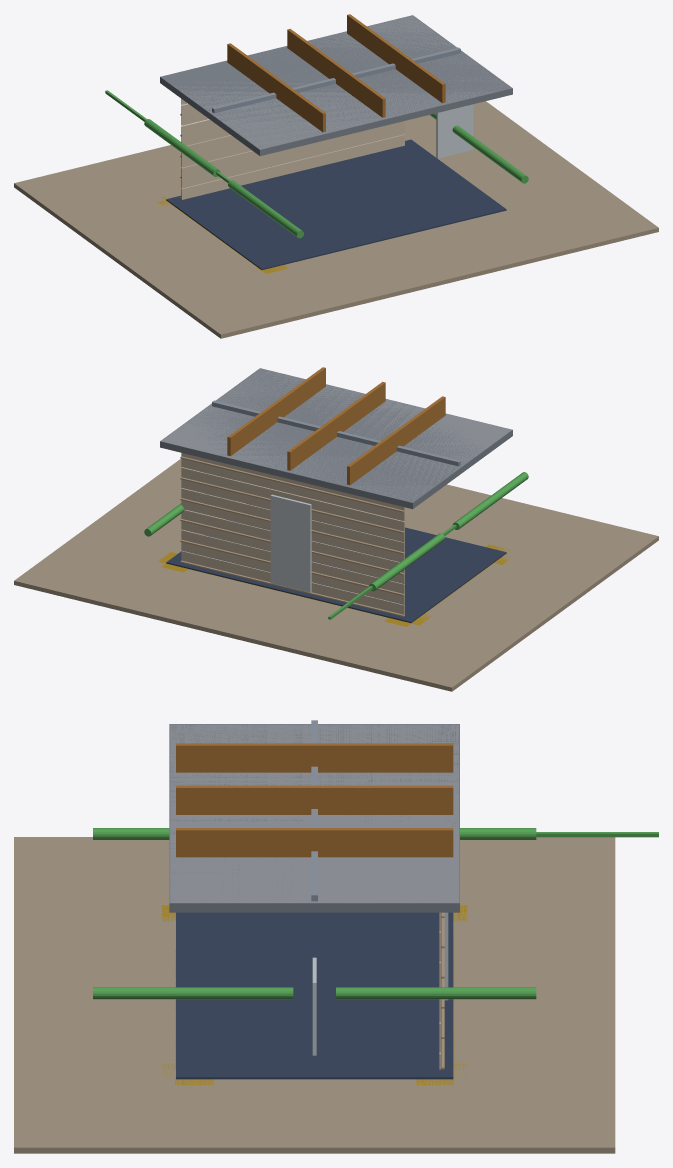
Rendered from stage_09_roof_structure.glb.
3 renders of one model, top to bottom at view 1: azimuth 30°, elevation 25°; view 2: azimuth 150°, elevation 25°; view 3: azimuth 270°, elevation 25°, orthographic. The views are drawn at different scales.
Visible parts, largest first — view 1: world; view 2: world; view 3: world.
Boxes of the visible parts, x1,y1,x2,y2 form: world: (14,14,658,338); world: (14,367,658,691); world: (14,720,658,1153).
Size of the model in its own units: 11 by 4.2 by 9.65.
